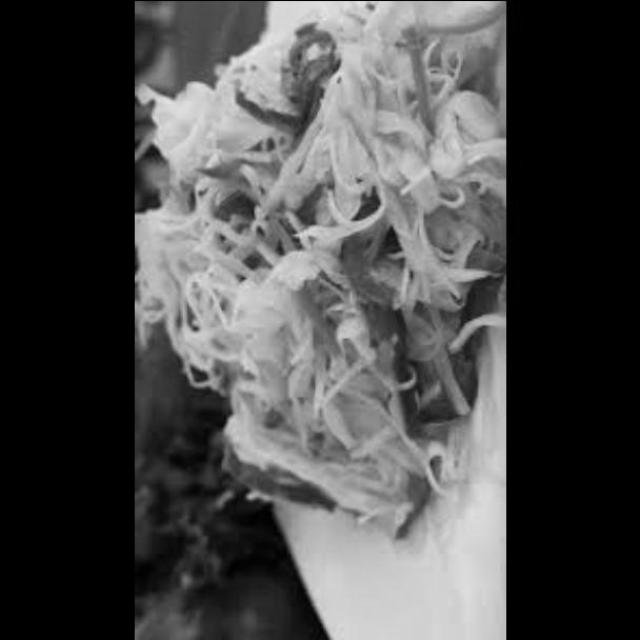ca rot: (337, 207, 412, 404), (393, 1, 430, 130), (419, 9, 503, 39)
cabbage: (283, 21, 504, 202), (175, 252, 349, 470), (328, 406, 464, 543), (147, 50, 274, 190), (378, 189, 466, 306), (133, 180, 200, 325)
hot pepper: (232, 19, 345, 152), (444, 266, 501, 391), (216, 457, 325, 507), (207, 192, 250, 228)
